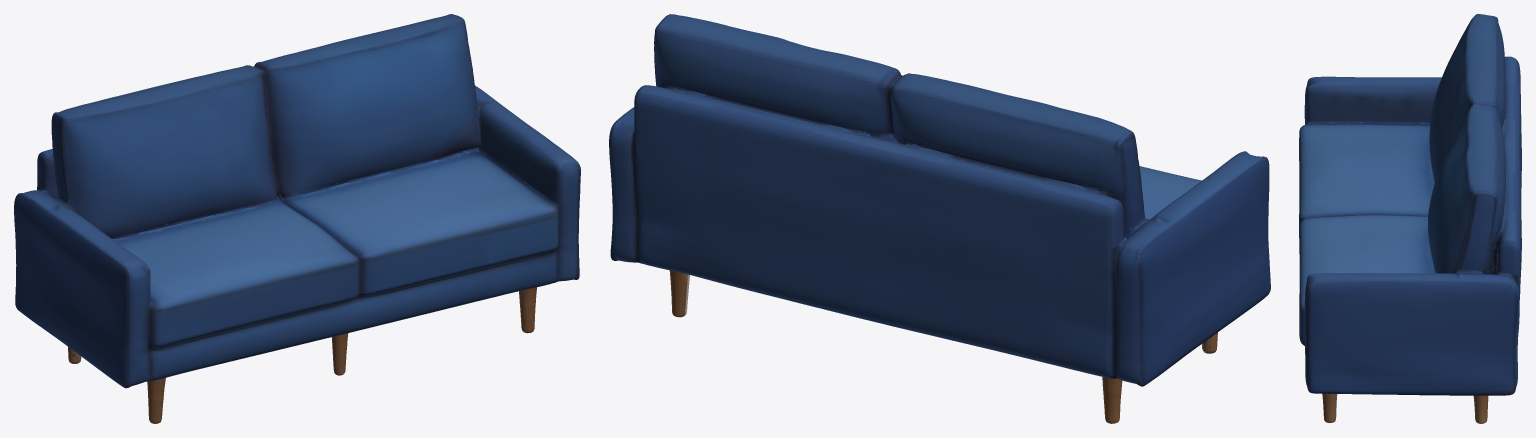
File: blue-fabric-sofa.glb
3 views of the same model, side by side, from view 1: azimuth 30°, elevation 25°; view 2: azimuth 150°, elevation 25°; view 3: azimuth 270°, elevation 25° (orthographic). The views are drawn at different scales.
Parts seen in each view (by area): view 1: geometry_0; view 2: geometry_0; view 3: geometry_0.
Boxes of the visible parts, x1,y1,x2,y2 form: geometry_0: [14, 14, 580, 423]; geometry_0: [609, 14, 1270, 423]; geometry_0: [1299, 14, 1521, 423].
Bounding box in the file's own units: 1.99 × 1.05 × 0.8981.
1 material, 1 textured.
